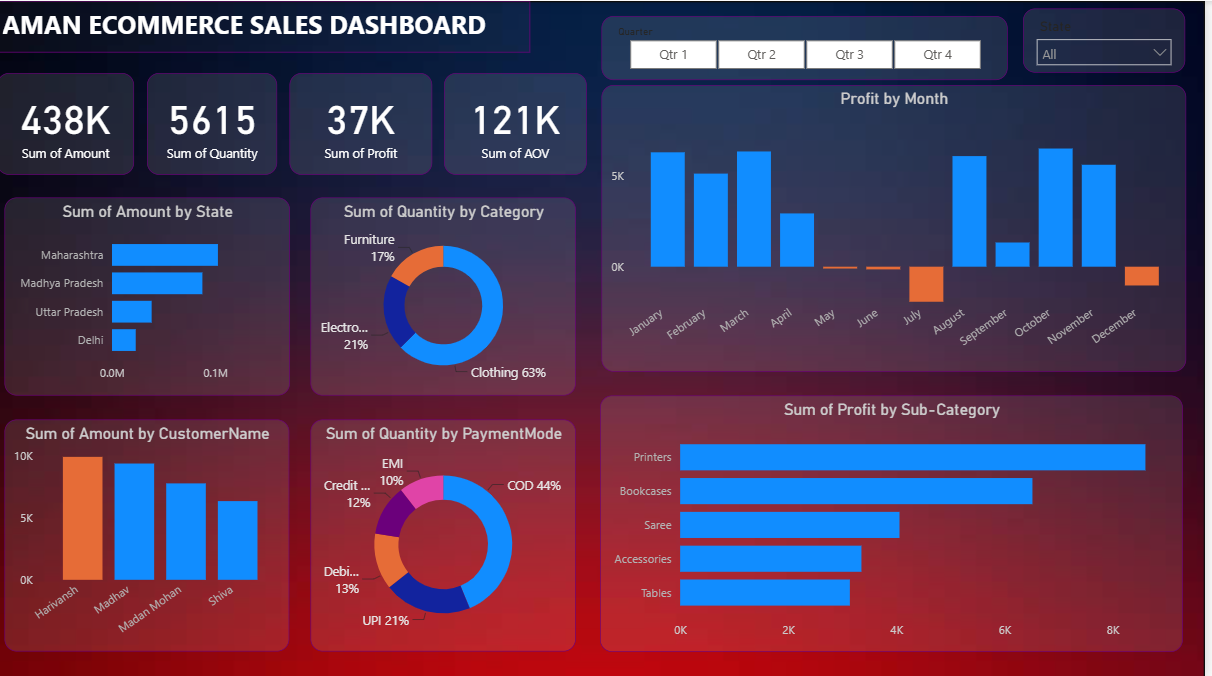

What the dashboard file says about the page in this screenshot:
{"tool":"powerbi","page":{"name":"Page 1","canvas":[1280,720],"ordinal":0},"visuals":[{"type":"textbox","box":[0,0,565,54.8],"z":0},{"type":"columnChart","title":"Profit by Month","fields":{"Y":["Sum(Details.Profit)"],"Category":["Orders.Order Date.Variation.Date Hierarchy.Month"]},"box":[640.6,88.8,619.8,304.3],"z":1000},{"type":"barChart","fields":{"Category":["Details.Sub-Category"],"Y":["Sum(Details.Profit)"]},"box":[638.7,417.6,618,272.1],"z":2000},{"type":"donutChart","fields":{"Category":["Details.Category"],"Y":["Sum(Details.Quantity)"]},"box":[332.6,207.9,281.6,209.8],"z":2001},{"type":"donutChart","fields":{"Y":["Sum(Details.Quantity)"],"Category":["Details.PaymentMode"]},"box":[332.6,444.1,281.6,245.7],"z":2002},{"type":"card","fields":{"Values":["Sum(Details.Amount)"]},"box":[0,75.6,145.5,107.7],"z":2003},{"type":"card","fields":{"Values":["Sum(Details.Quantity)"]},"box":[158.7,75.6,138,107.7],"z":2004},{"type":"card","fields":{"Values":["Sum(Details.Profit)"]},"box":[309.9,75.6,151.2,107.7],"z":2005},{"type":"card","fields":{"Values":["Sum(Details.AOV)"]},"box":[474.3,75.6,151.2,107.7],"z":2006},{"type":"barChart","fields":{"Category":["Orders.State"],"Y":["Sum(Details.Amount)"]},"box":[7.6,207.9,302.4,209.8],"z":2007},{"type":"columnChart","fields":{"Category":["Orders.CustomerName"],"Y":["Sum(Details.Amount)"]},"box":[8,444,302,246],"z":2008},{"type":"slicer","fields":{"Values":["Orders.Order Date.Variation.Date Hierarchy.Quarter"]},"box":[640.6,15.1,430.9,68],"z":2010},{"type":"slicer","fields":{"Values":["Orders.State"]},"box":[1088.5,7.6,172,68],"z":2011}]}

Visuals, with their boxes in screenshot pixels (x1, y1, x2, y2), scaled from the page's 1280x720 canvas onto the 1212x676 screenshot:
textbox: 0:0:535:51
"Profit by Month" columnChart: 607:83:1193:369
barChart - Details.Sub-Category x Sum(Details.Profit): 605:392:1190:648
donutChart - Details.Category x Sum(Details.Quantity): 315:195:582:392
donutChart - Sum(Details.Quantity) x Details.PaymentMode: 315:417:582:648
card - Sum(Details.Amount): 0:71:138:172
card - Sum(Details.Quantity): 150:71:281:172
card - Sum(Details.Profit): 293:71:437:172
card - Sum(Details.AOV): 449:71:592:172
barChart - Orders.State x Sum(Details.Amount): 7:195:294:392
columnChart - Orders.CustomerName x Sum(Details.Amount): 8:417:294:648
slicer - Orders.Order Date.Variation.Date Hierarchy.Quarter: 607:14:1015:78
slicer - Orders.State: 1031:7:1194:71
